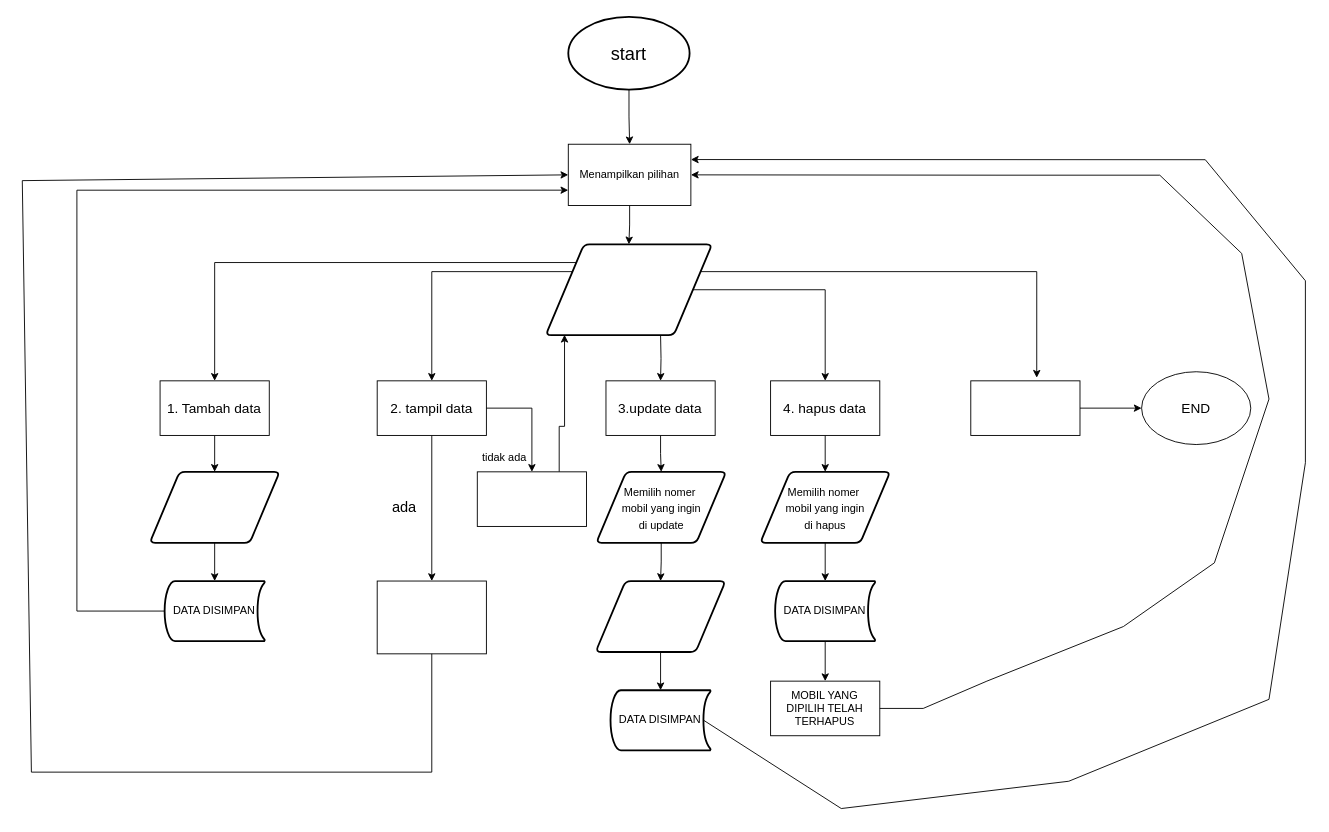
This 1329x832 diagram has some shape labels left out. Here are the shapes that lost their labels. From the top down, the centre of each, then its label:
At point 628,289: "Masukan pilihan : 1.tambah data 2.tampil data 3.update data 4.hapus data 5.exit".
At point 1025,407: "5. exit".
At point 214,506: "Input nama,merek harga".
At point 531,498: "TIDAK ADA DATA".
At point 431,617: "MENAMPILKAN SEMUA DATA".
At point 660,616: "Input nama baru, merek baru, harga baru".
